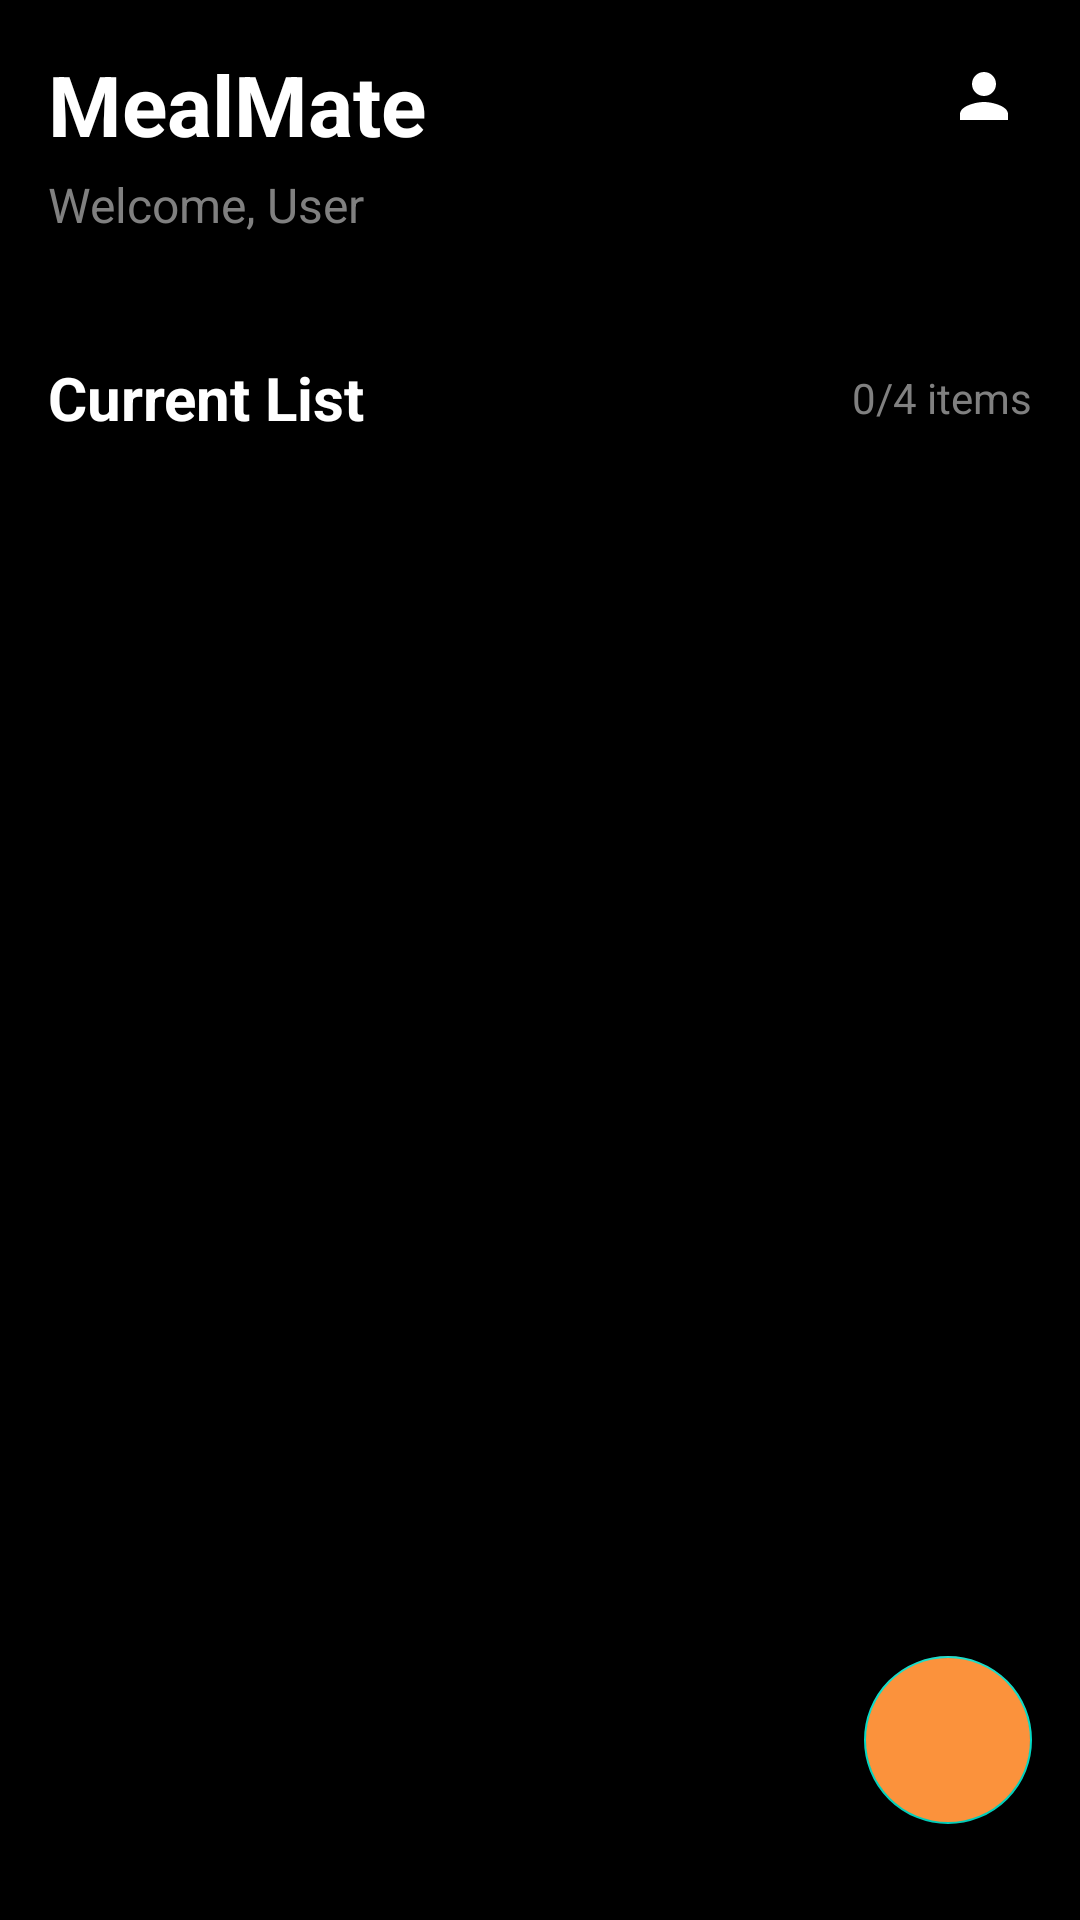

Where to tap for icons on this 1080px x 1920px app screen, as [x,y]:
profile: [984,96]
